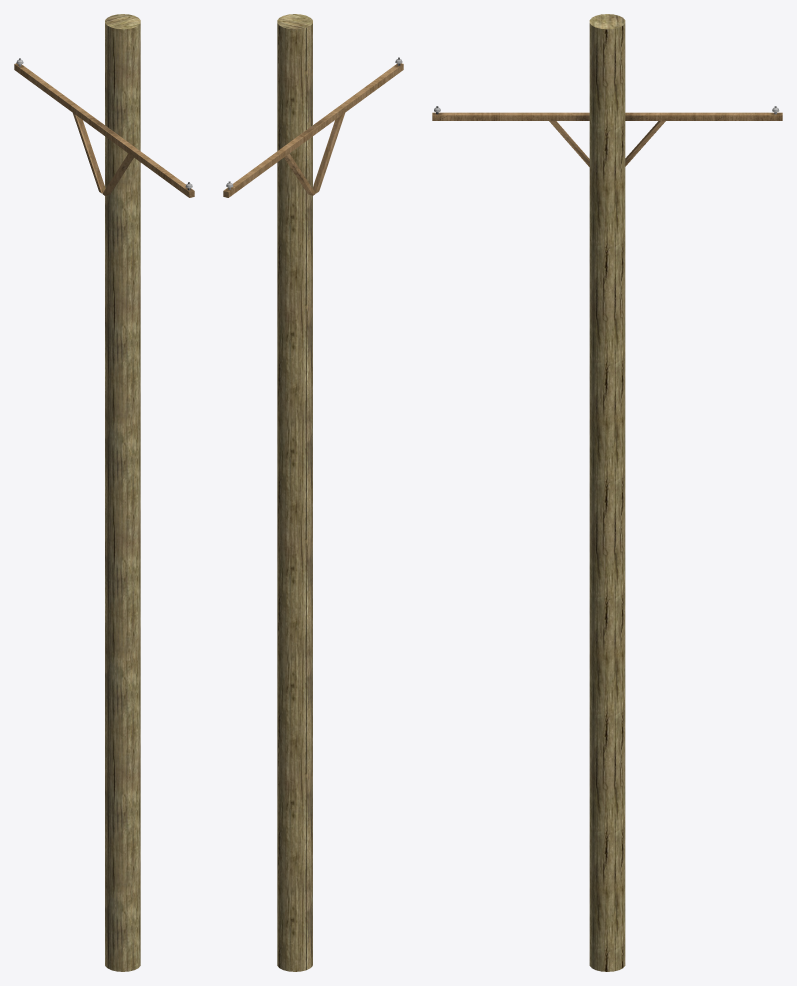
The model's file is powerline_pole_lv.glb.
The picture shows the model from 3 angles, left to right: view 1: azimuth 30°, elevation 25°; view 2: azimuth 150°, elevation 25°; view 3: azimuth 270°, elevation 25°; orthographic projection.
Visible parts, largest first — view 1: Telegraphpole; view 2: Telegraphpole; view 3: Telegraphpole.
Boxes of the visible parts, x1,y1,x2,y2 form: Telegraphpole: [14, 14, 194, 971]; Telegraphpole: [223, 14, 403, 971]; Telegraphpole: [432, 14, 782, 971].
Size of the model in its own units: 0.0835 by 2 by 0.674.
Materials: 1 (1 with a texture image).
